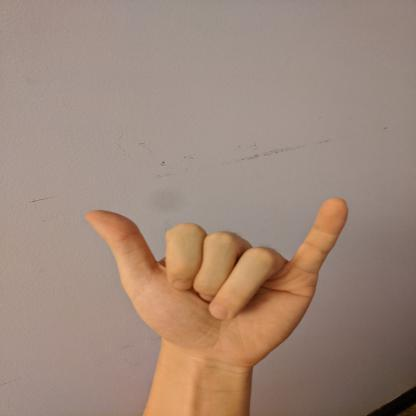Y: (81, 194, 354, 366)
